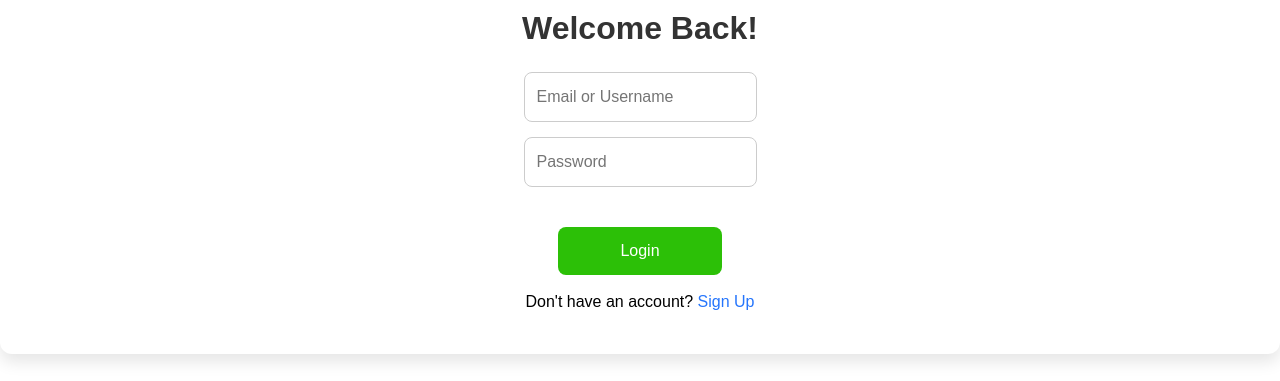
Test case: Login.vue › when login fails › should display generic error message for other errors
The image size is (1280, 381).
In the field with placeholder "Email or Username": (640,97) x1=524 y1=72 x2=756 y2=122, type "testuser"
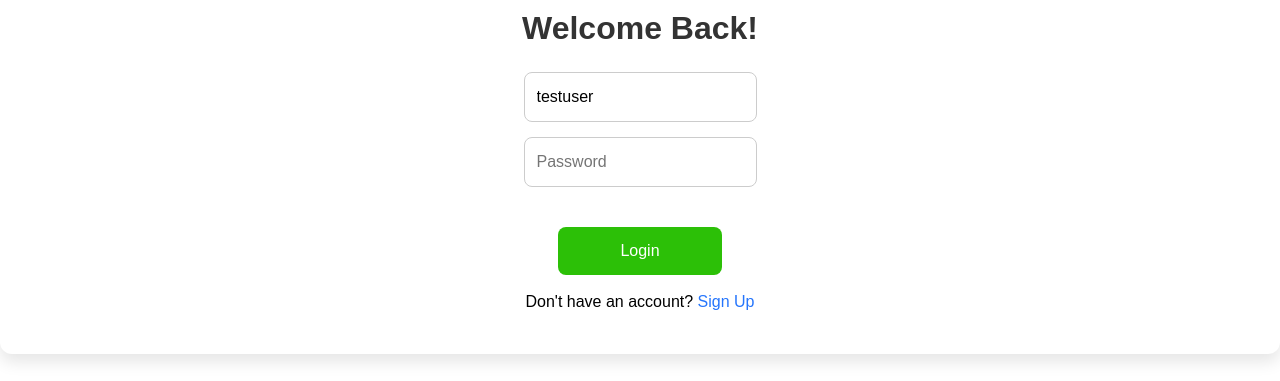
In the field with placeholder "Password": (640,162) x1=524 y1=137 x2=756 y2=187, type "wrongpassword"
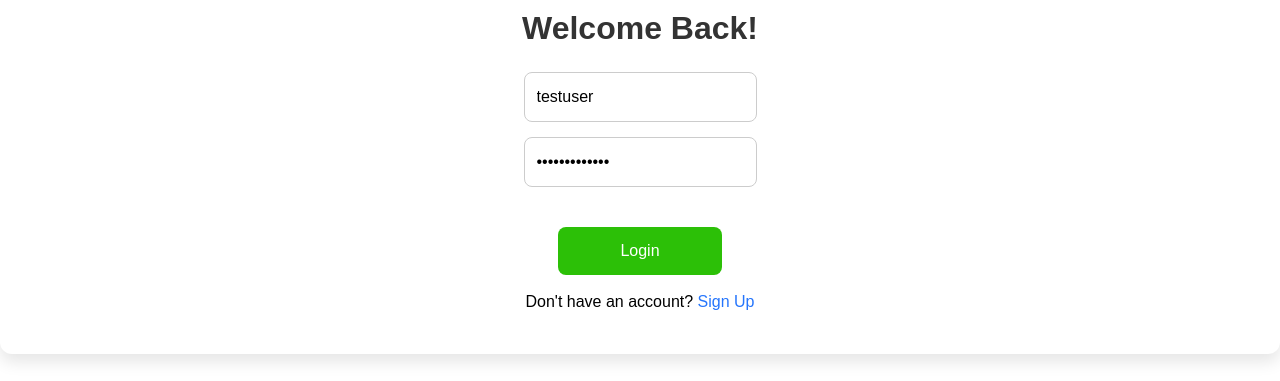
Submit the form, box x1=524 y1=72 x2=756 y2=275
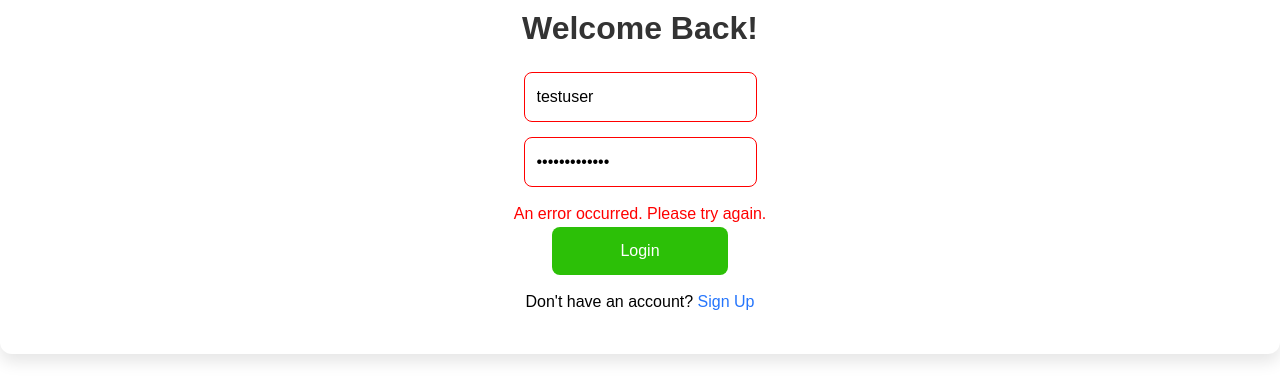
Expected: the text with class "error-message" reads "An error occurred. Please try again.", x1=514 y1=205 x2=766 y2=222
